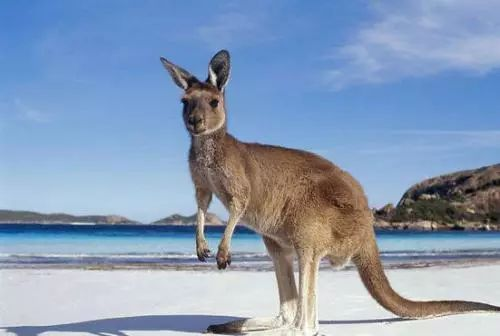kangaroo: (154, 45, 500, 335)
